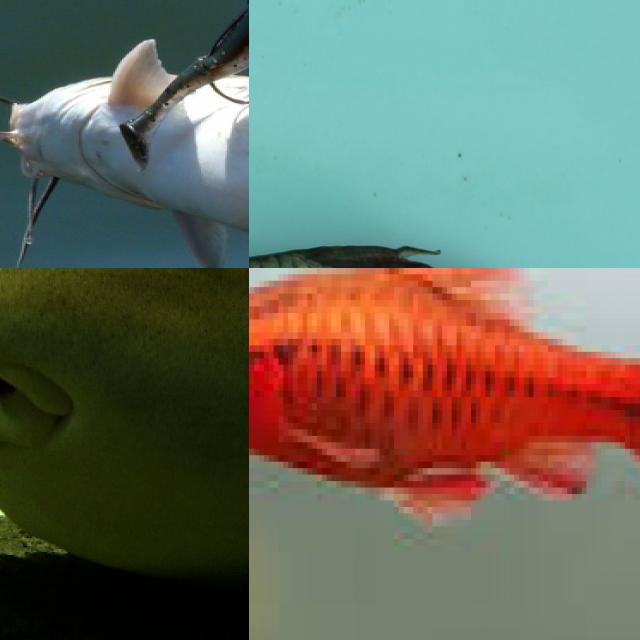fish: (249, 268, 640, 640), (0, 268, 249, 640), (0, 0, 249, 268), (249, 193, 640, 268)
